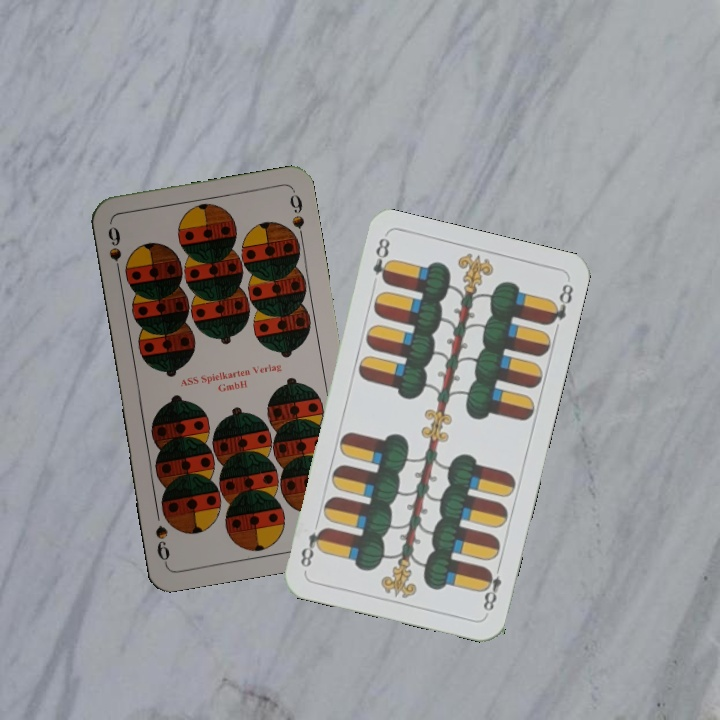E8: (478, 559, 505, 614), (368, 233, 394, 287)
S9: (103, 222, 124, 280)
